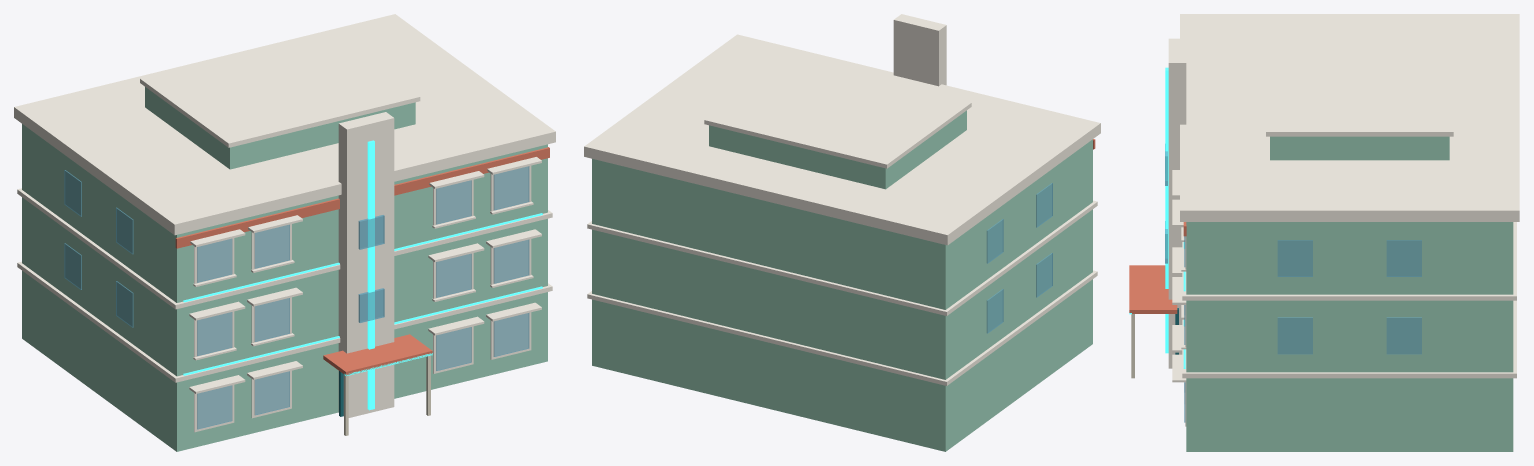
Rendered from deco_hotel_a.glb.
3 views of the same model, side by side, from view 1: azimuth 30°, elevation 25°; view 2: azimuth 150°, elevation 25°; view 3: azimuth 270°, elevation 25° (orthographic). The views are drawn at different scales.
Parts seen in each view (by area): view 1: deco_hotel_a; view 2: deco_hotel_a; view 3: deco_hotel_a.
Boxes of the visible parts, x1,y1,x2,y2 form: deco_hotel_a: [14, 14, 555, 451]; deco_hotel_a: [584, 14, 1100, 451]; deco_hotel_a: [1129, 14, 1519, 451].
Size of the model in its own units: 18.5 by 13.4 by 15.51.
